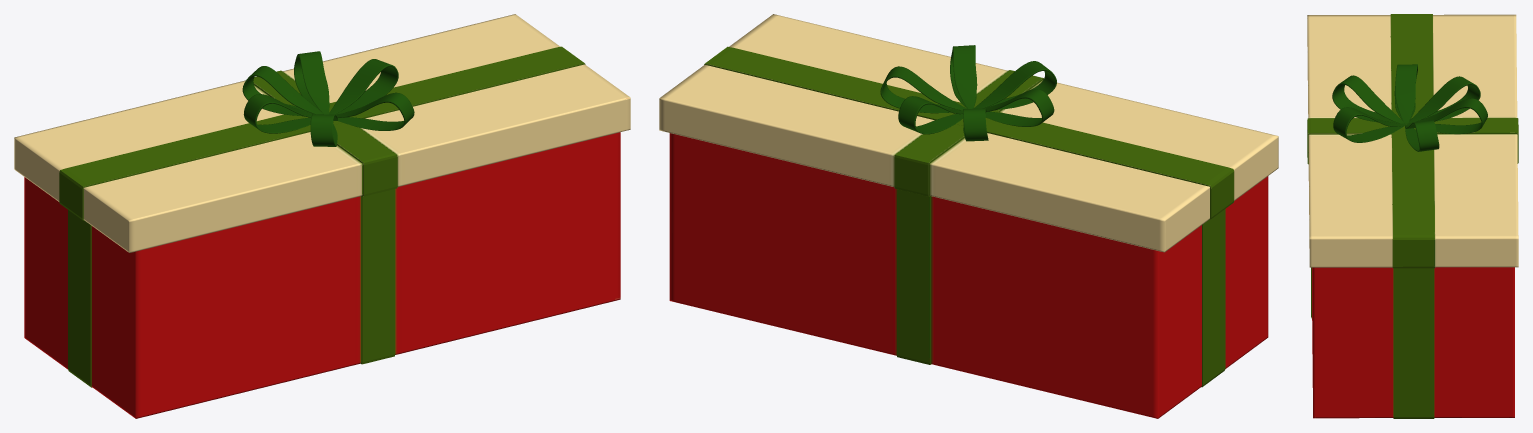
The model's file is present.glb.
The picture shows the model from 3 angles, left to right: view 1: azimuth 30°, elevation 25°; view 2: azimuth 150°, elevation 25°; view 3: azimuth 270°, elevation 25°; orthographic projection. The views are drawn at different scales.
Visible parts, largest first — view 1: Bottom, Top, Bow; view 2: Bottom, Top, Bow; view 3: Top, Bottom, Bow.
Part boxes in pixels (x1,y1,x2,y2): Bottom: (24,132,620,418); Top: (14,14,630,252); Bow: (242,51,414,146); Bottom: (669,133,1268,418); Top: (659,14,1278,252); Bow: (880,45,1056,141); Top: (1307,14,1518,268); Bottom: (1311,267,1514,418); Bow: (1332,64,1487,151).
Bounding box in the file's own units: 5.26 × 2.38 × 2.09.
1 material, 1 textured.
